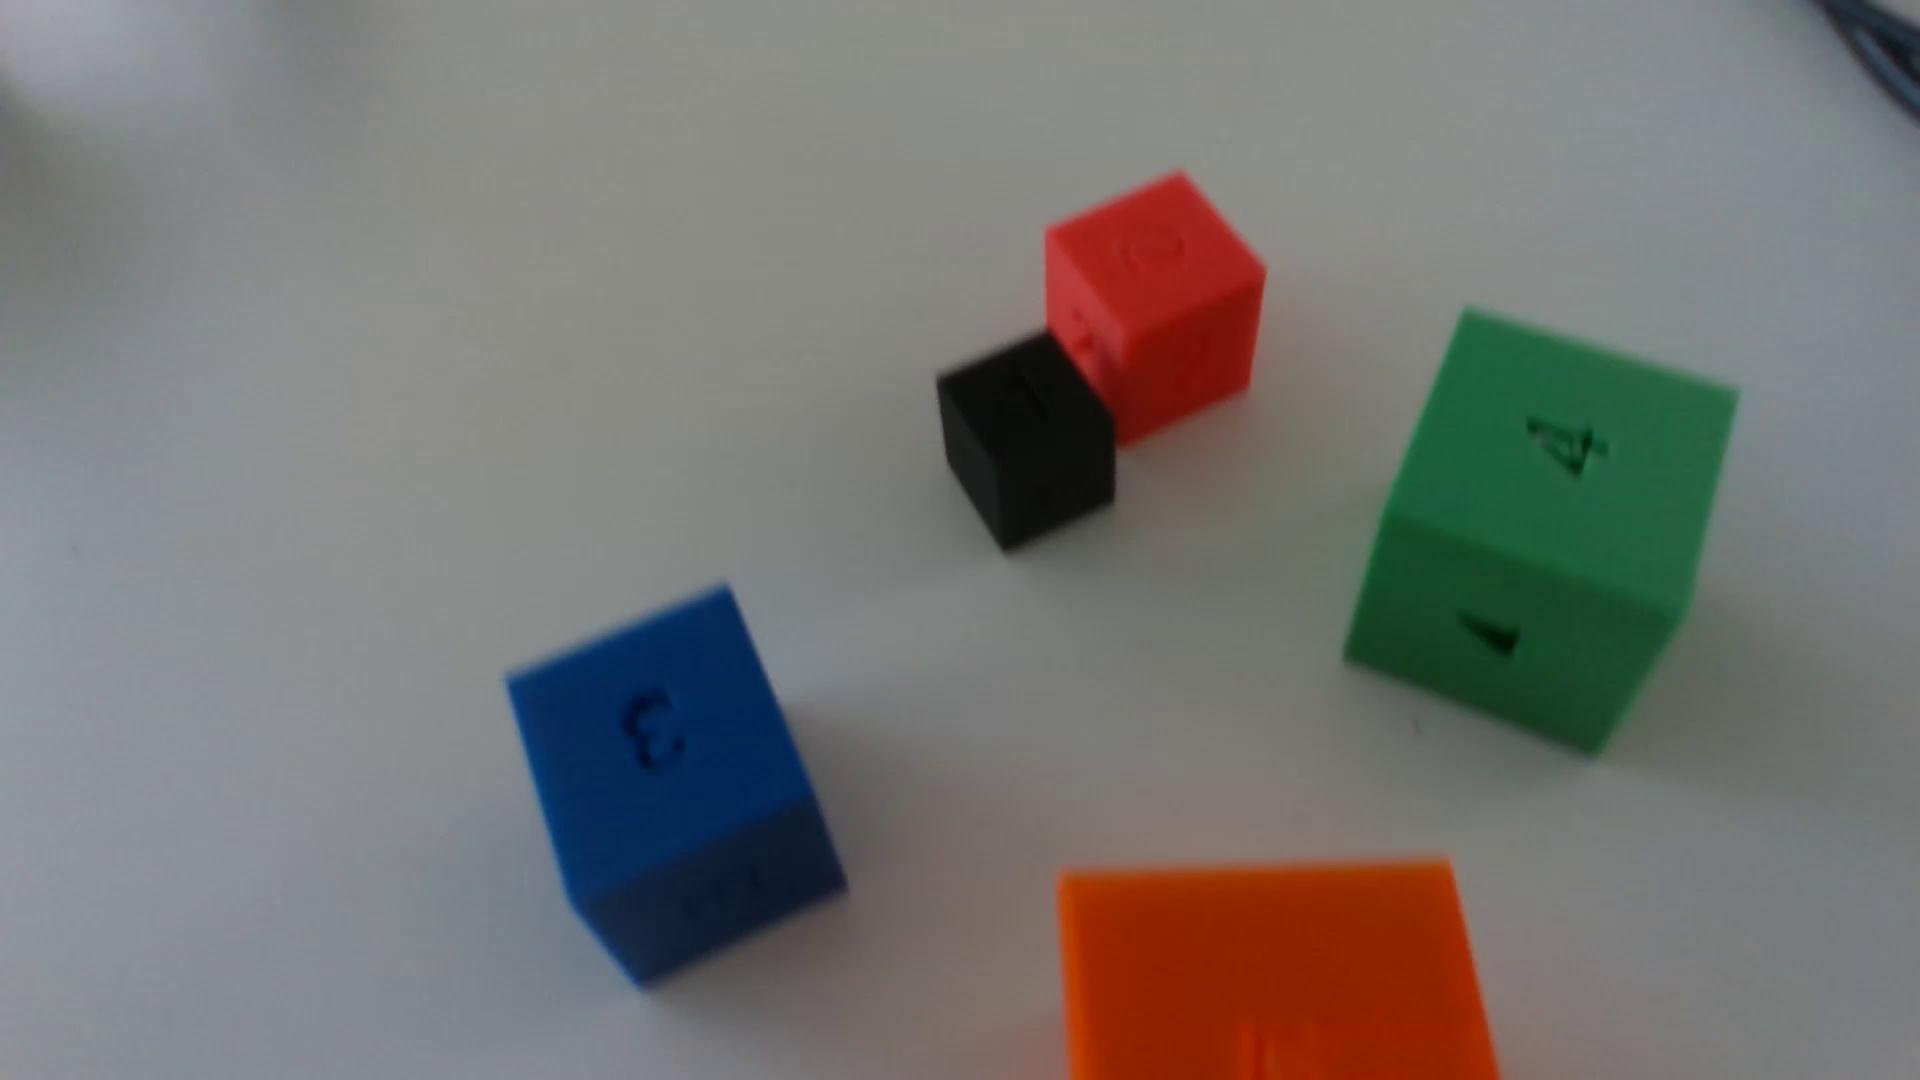black: (935, 331, 1116, 553)
blue: (508, 588, 844, 985)
green: (1345, 311, 1735, 754)
orange: (1058, 861, 1501, 1080)
red: (1044, 174, 1265, 446)
